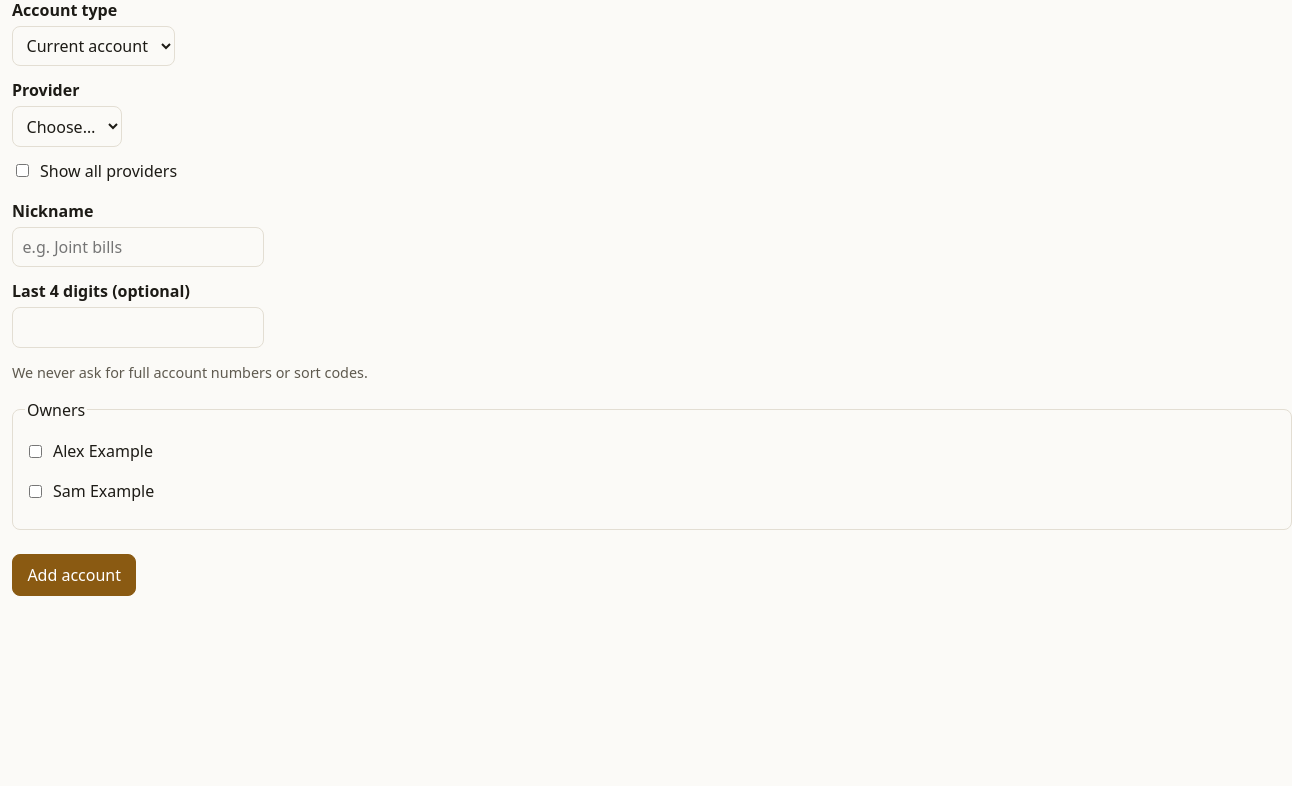
Test: hides card fields for current accounts and shows them for credit cards
Expected: the field labelled "Nickname" is enabled, left=12, top=227, right=264, bottom=267
Expected: the field labelled "Credit limit" is not shown
Select "Credit card" in the dropdown labelled "Account type": x=94, y=46 left=12, top=26, right=175, bottom=66
(page scrolled)
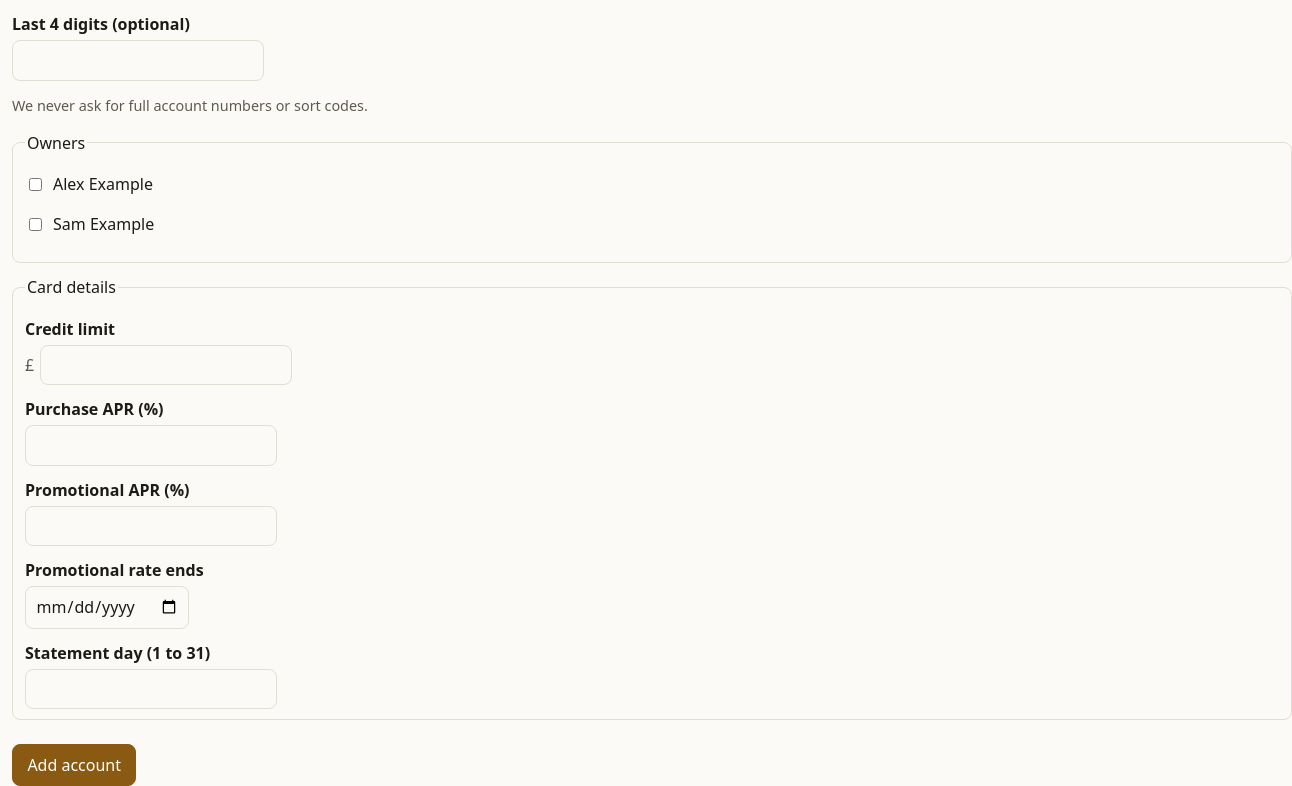
Now the field labelled "Credit limit" is shown, box left=40, top=345, right=292, bottom=386
Now the field labelled "Purchase APR (%)" is shown, box left=25, top=426, right=277, bottom=466
Now the field labelled "Statement day (1 to 31)" is shown, box left=25, top=669, right=277, bottom=709
